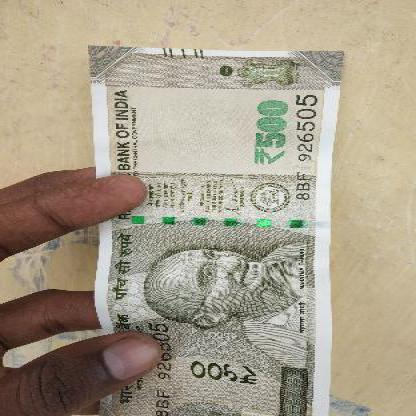New500Front: (90, 45, 326, 415)
